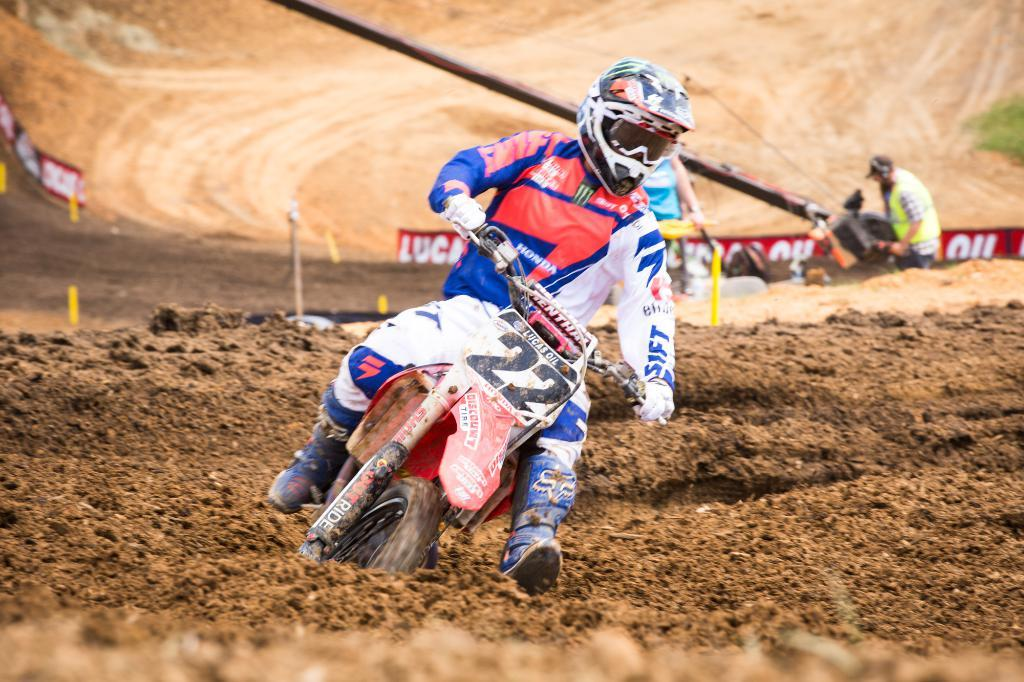helmet: (576, 56, 696, 197)
